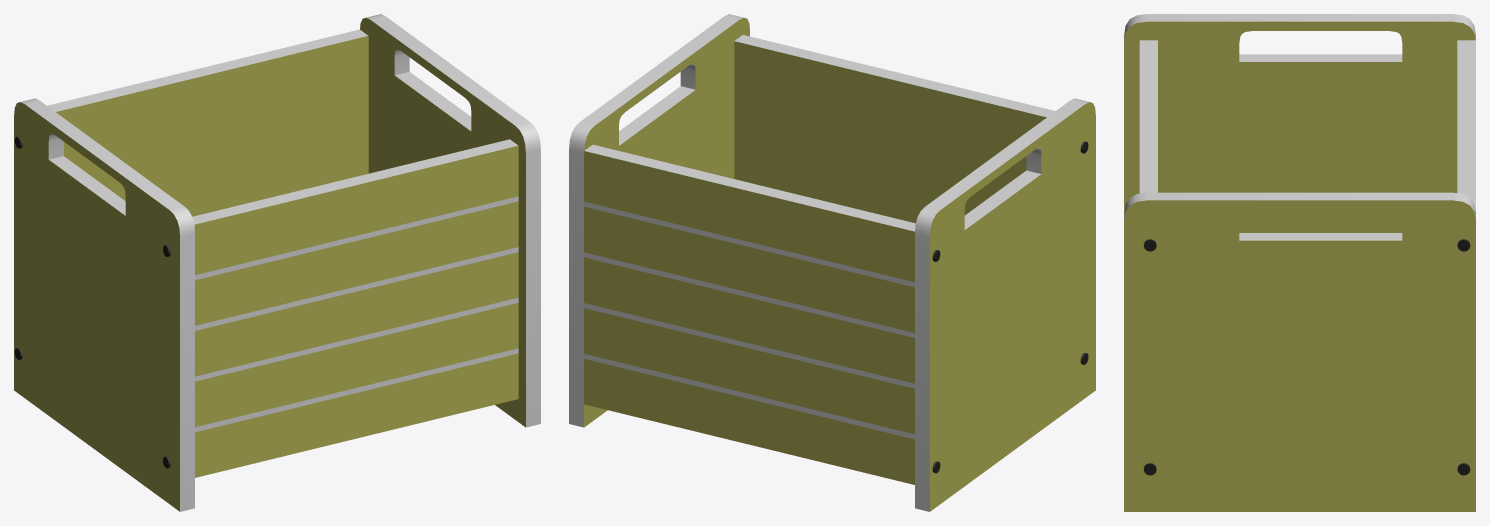
Rendered from Caja-1.FBX.
3 views of the same model, side by side, from view 1: azimuth 30°, elevation 25°; view 2: azimuth 150°, elevation 25°; view 3: azimuth 270°, elevation 25° (orthographic). The views are drawn at different scales.
Visible parts, largest first — view 1: Caja; view 2: Caja; view 3: Caja.
Part boxes in pixels (bbox=[...]): Caja: bbox=[14, 14, 540, 511]; Caja: bbox=[569, 14, 1095, 511]; Caja: bbox=[1124, 14, 1475, 511].
Bounding box in the file's own units: 68.83 × 54.3 × 53.06.
